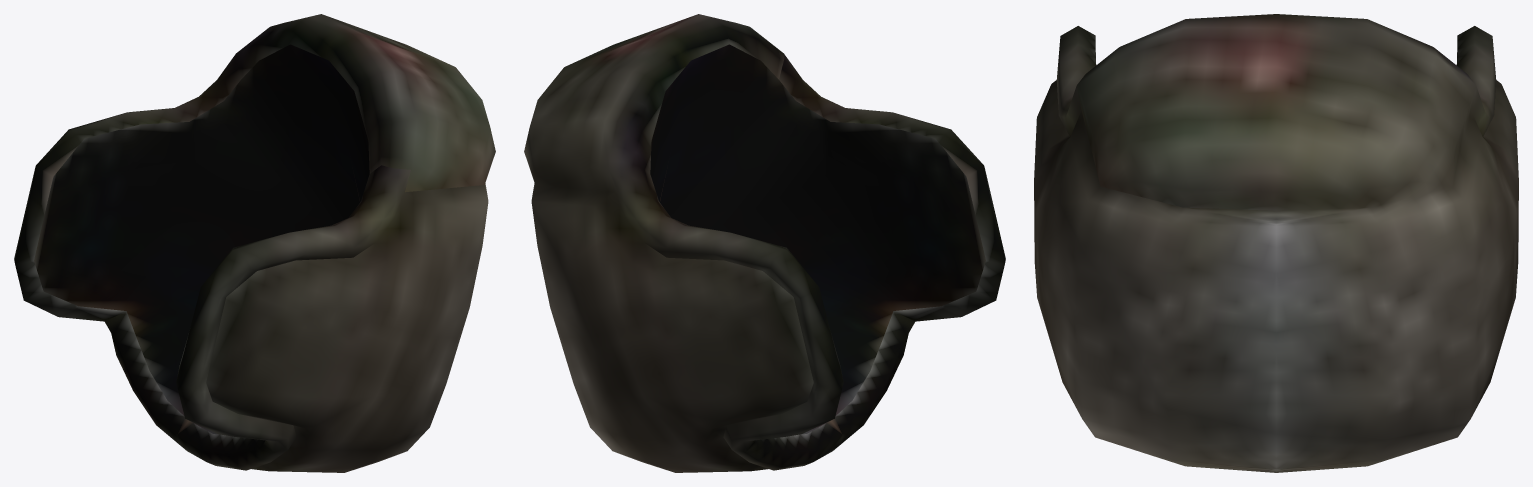
Rendered from helmet_russian_padded_a.glb.
3 views of the same model, side by side, from view 1: azimuth 30°, elevation 25°; view 2: azimuth 150°, elevation 25°; view 3: azimuth 270°, elevation 25° (orthographic). The views are drawn at different scales.
Bounding box in the file's own units: 9.1 × 9.43 × 8.57.
1 material, 1 textured.
